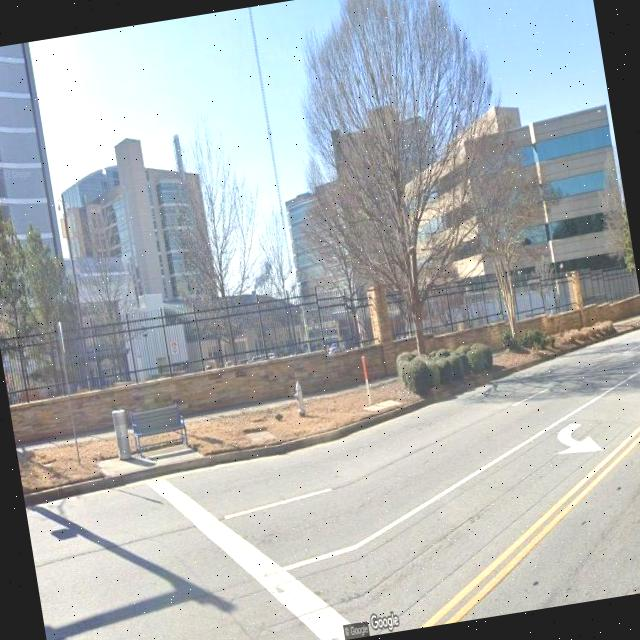seating: (129, 402, 189, 458)
trash_can: (112, 408, 134, 462)
